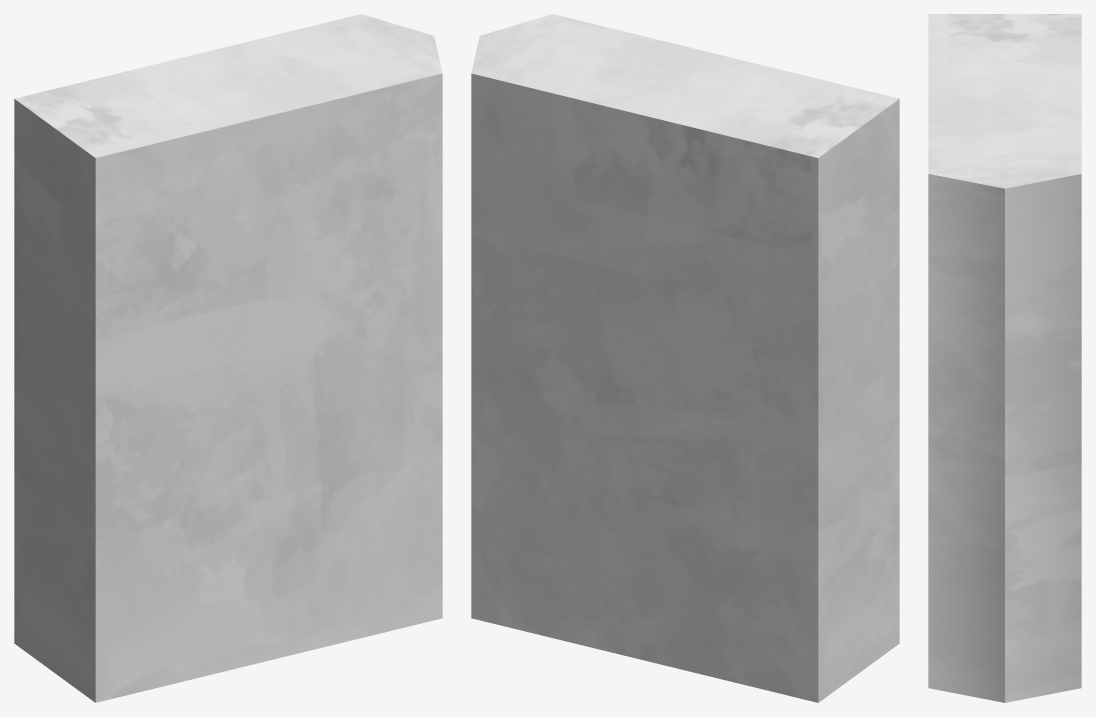
File: Book_yellow.fbx
The picture shows the model from 3 angles, left to right: view 1: azimuth 30°, elevation 25°; view 2: azimuth 150°, elevation 25°; view 3: azimuth 270°, elevation 25°; orthographic projection. The views are drawn at different scales.
Visible parts, largest first — view 1: Book_yellow; view 2: Book_yellow; view 3: Book_yellow.
Part boxes in pixels (x1,y1,x2,y2): Book_yellow: (14, 14, 442, 702); Book_yellow: (471, 14, 899, 702); Book_yellow: (928, 14, 1081, 702).
Bounding box in the file's own units: 44.61 × 61.23 × 16.55.
